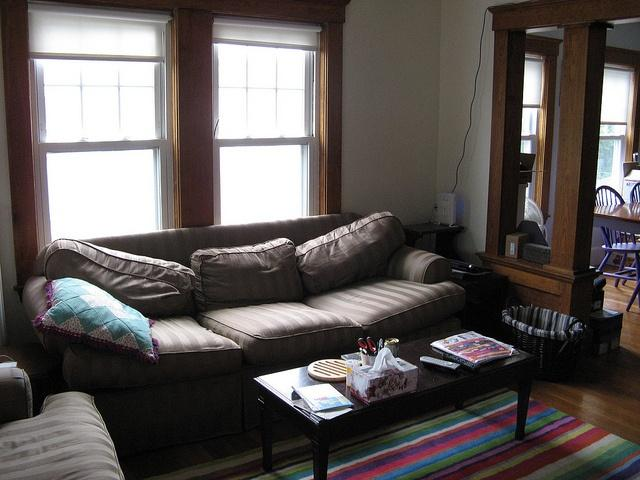Meja: (251, 322, 535, 479)
